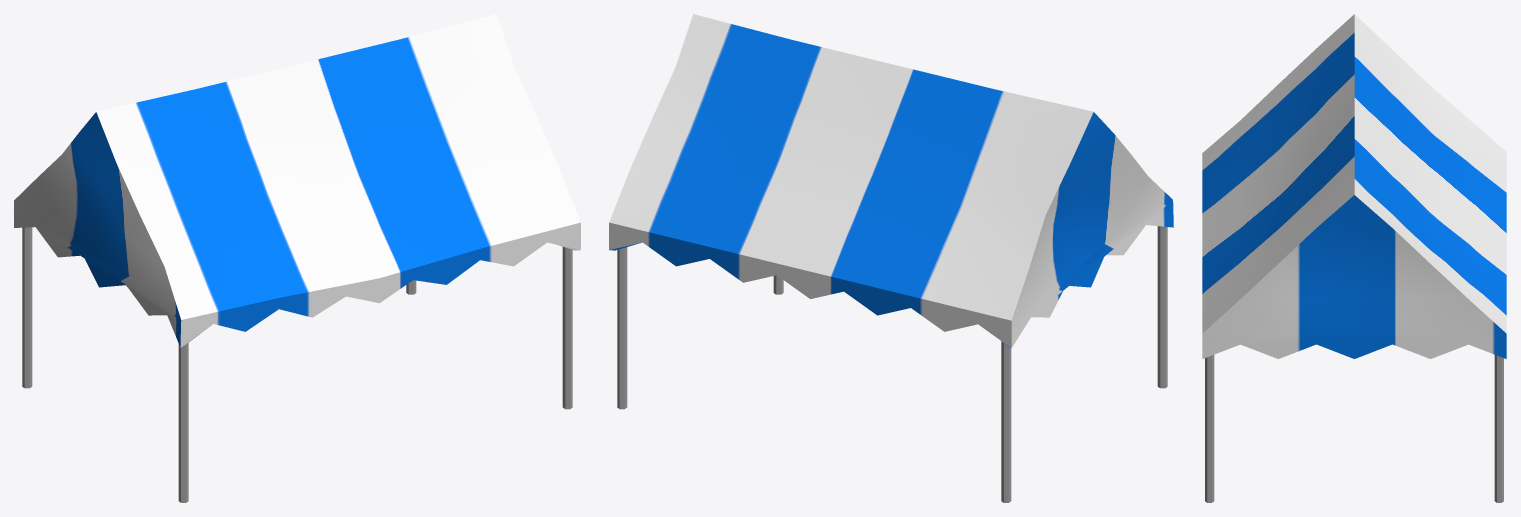
The model's file is tentoBLUE1006.fbx.
The picture shows the model from 3 angles, left to right: view 1: azimuth 30°, elevation 25°; view 2: azimuth 150°, elevation 25°; view 3: azimuth 270°, elevation 25°; orthographic projection. The views are drawn at different scales.
Parts seen in each view (by area): view 1: Cube, Cylinder; view 2: Cube, Cylinder; view 3: Cube, Cylinder.
Boxes of the visible parts, x1,y1,x2,y2 form: Cube: (14, 14, 580, 347); Cylinder: (22, 227, 572, 502); Cube: (609, 14, 1173, 347); Cylinder: (617, 226, 1167, 502); Cube: (1202, 14, 1506, 358); Cylinder: (1205, 355, 1503, 502).
Bounding box in the file's own units: 400 × 318 × 283.
